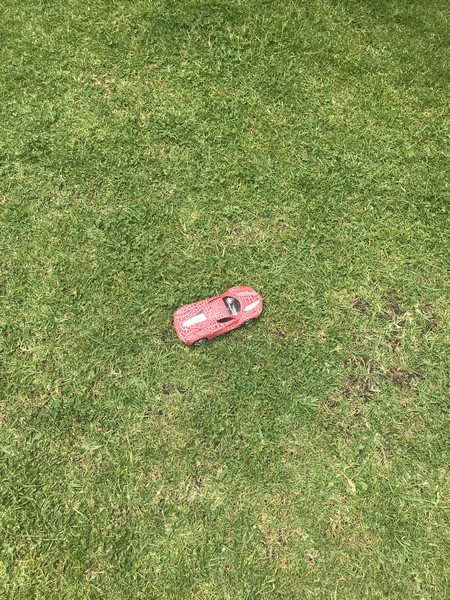RC: (171, 283, 265, 348)
